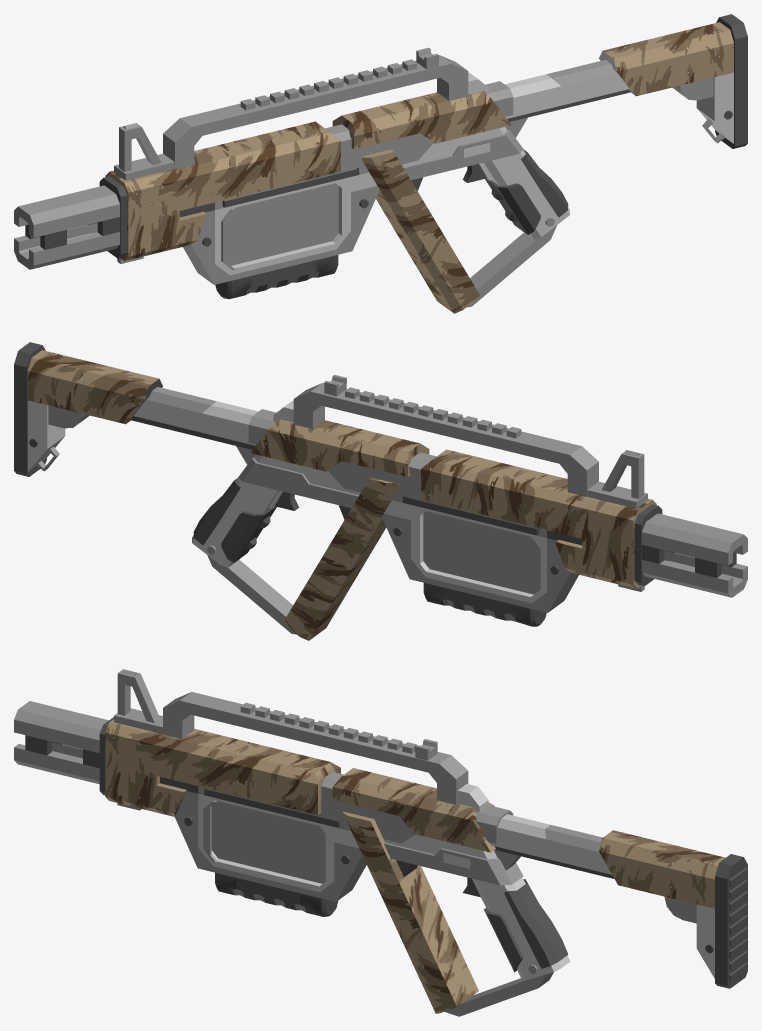
File: SM_ARA1.fbx
The picture shows the model from 3 angles, top to bottom: view 1: azimuth 30°, elevation 25°; view 2: azimuth 150°, elevation 25°; view 3: azimuth 330°, elevation 25°; orthographic projection.
Parts seen in each view (by area): view 1: SM_ARA1; view 2: SM_ARA1; view 3: SM_ARA1.
Boxes of the visible parts, left/top/right/bottom form: SM_ARA1: left=14, top=14, right=747, bottom=313; SM_ARA1: left=14, top=342, right=747, bottom=640; SM_ARA1: left=14, top=669, right=747, bottom=1016.
Bounding box in the file's own units: 82.66 × 28.7 × 4.63.
